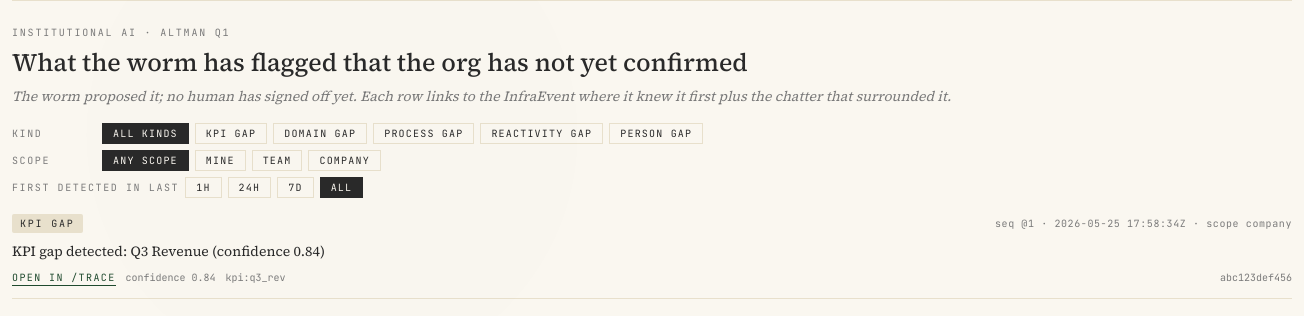
Scenario: FirstKnowingsTab › renders an empty-with-filters message when filters narrow to zero
Click the button with test id "chip-scope-mine".
click(220, 160)  # box x1=195 y1=150 x2=246 y2=170
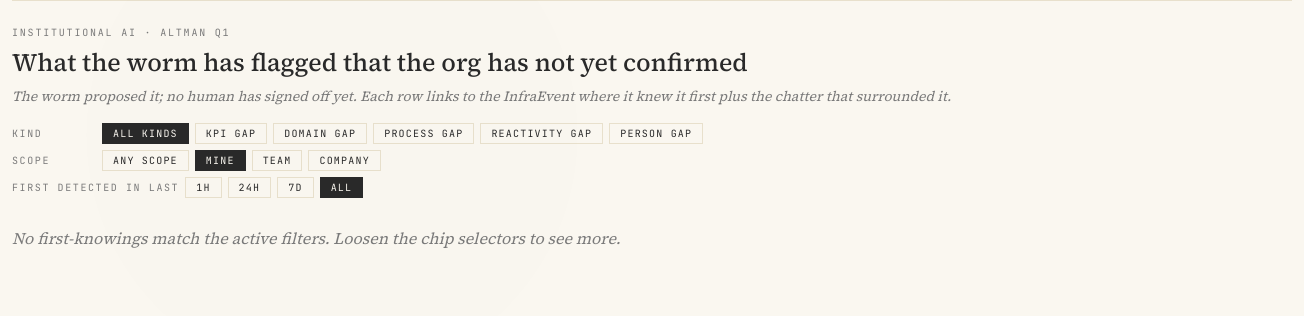
Check: the text with test id "first-knowings-empty" shows "match the active filters", box x1=12 y1=226 x2=620 y2=248
